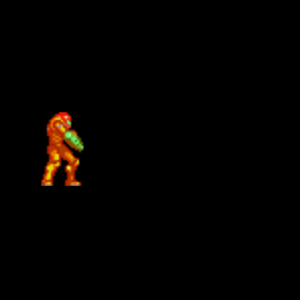Collectible: (41, 112, 84, 186)
